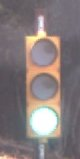Green: (18, 23, 72, 138)
